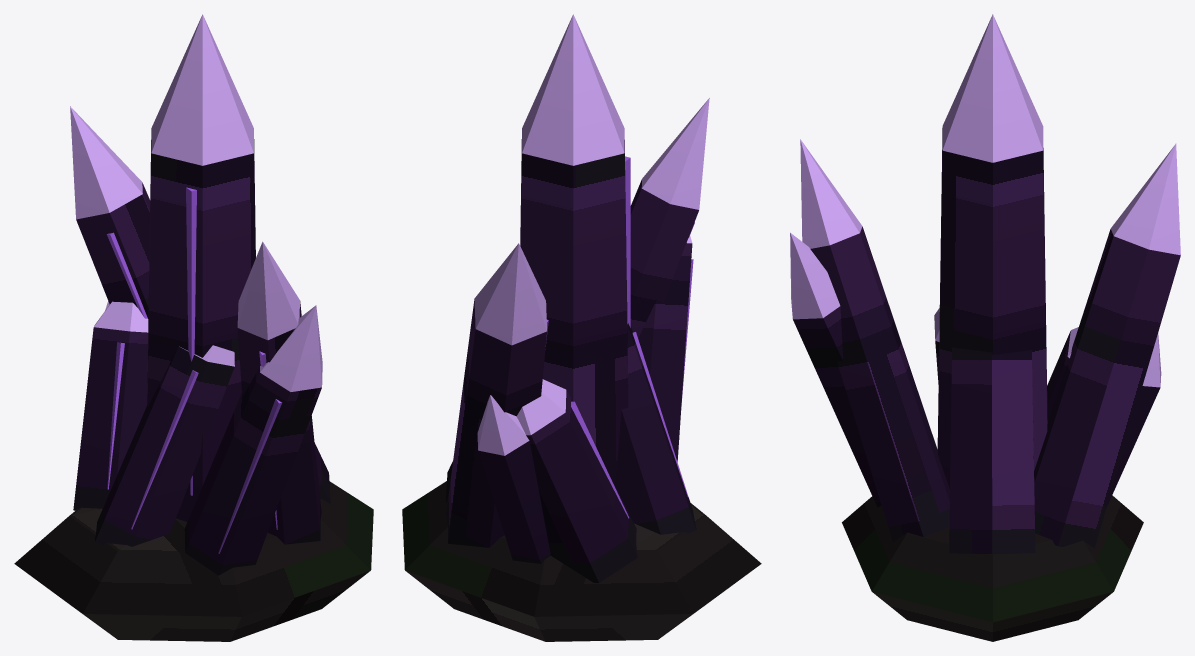
The model's file is crystal_cluster.glb.
3 views of the same model, side by side, from view 1: azimuth 30°, elevation 25°; view 2: azimuth 150°, elevation 25°; view 3: azimuth 270°, elevation 25° (orthographic). The views are drawn at different scales.
Parts seen in each view (by area): view 1: crystal_cluster; view 2: crystal_cluster; view 3: crystal_cluster.
Boxes of the visible parts, x1,y1,x2,y2 form: crystal_cluster: (14,14,373,641); crystal_cluster: (402,14,761,641); crystal_cluster: (790,14,1180,641).
Size of the model in its own units: 1.14 by 2.01 by 1.21.
Materials: 2 (1 with a texture image).
